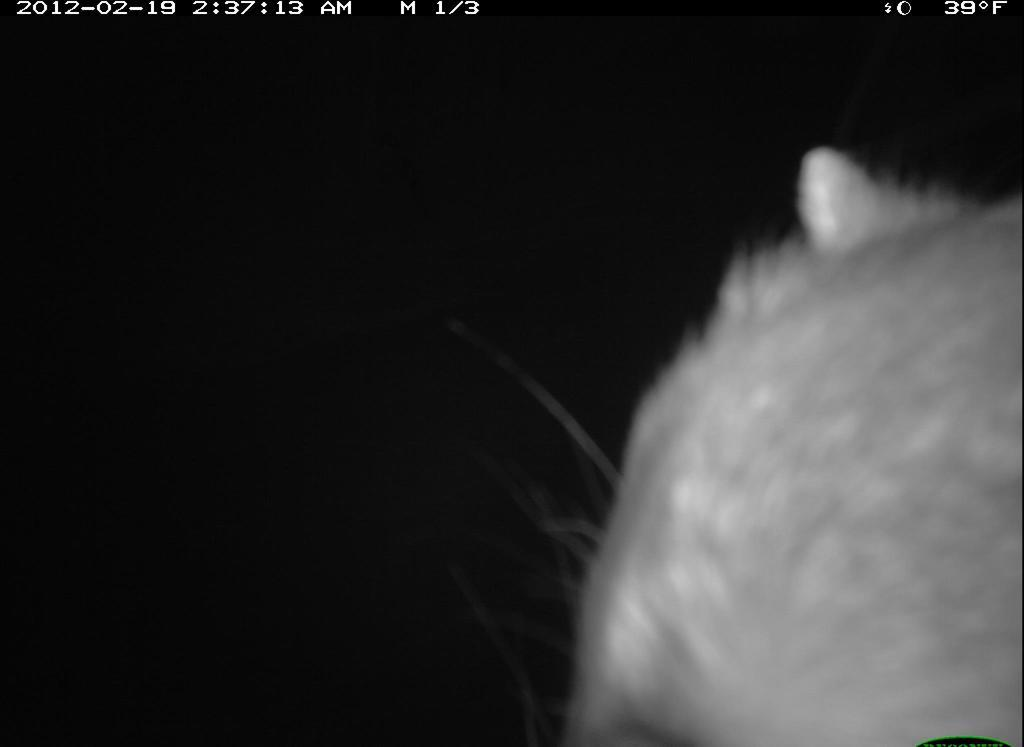raccoon: (536, 123, 1024, 747)
